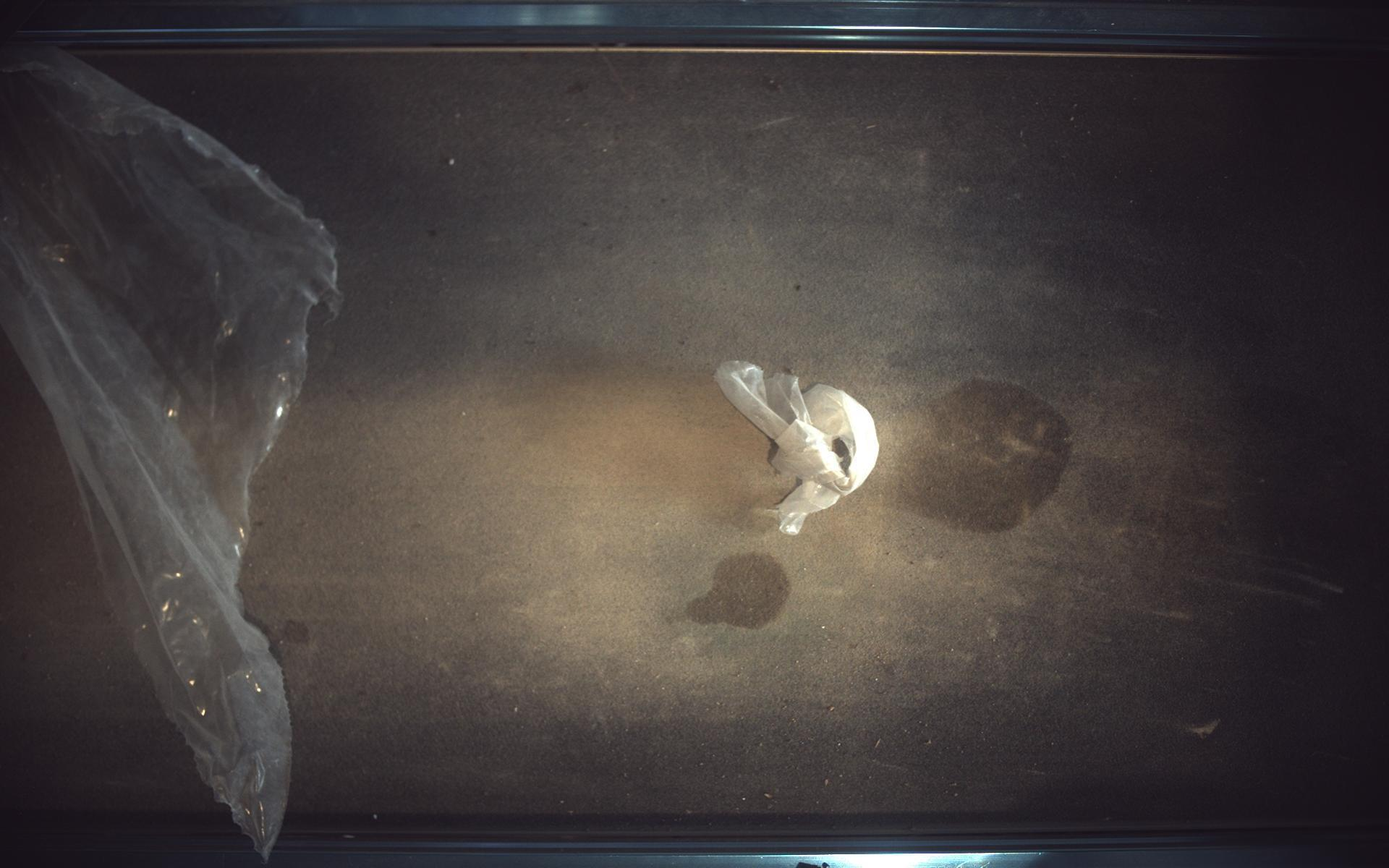general_w: (1, 46, 339, 858), (716, 360, 880, 535)
